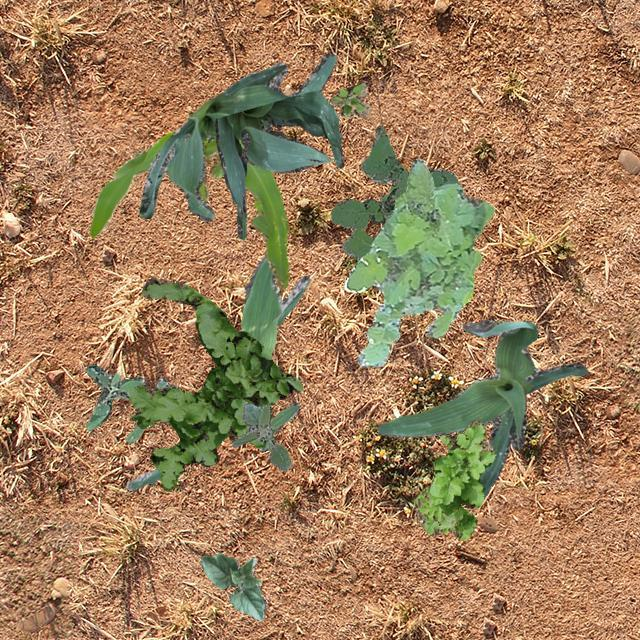crop: (126, 252, 310, 488), (376, 318, 586, 498), (138, 52, 336, 220), (89, 130, 288, 292), (215, 89, 342, 238), (200, 552, 264, 620)
weed: (128, 276, 302, 489), (344, 157, 494, 366), (329, 125, 456, 258), (412, 419, 494, 538), (84, 364, 178, 444), (232, 400, 298, 470), (330, 82, 370, 116)
